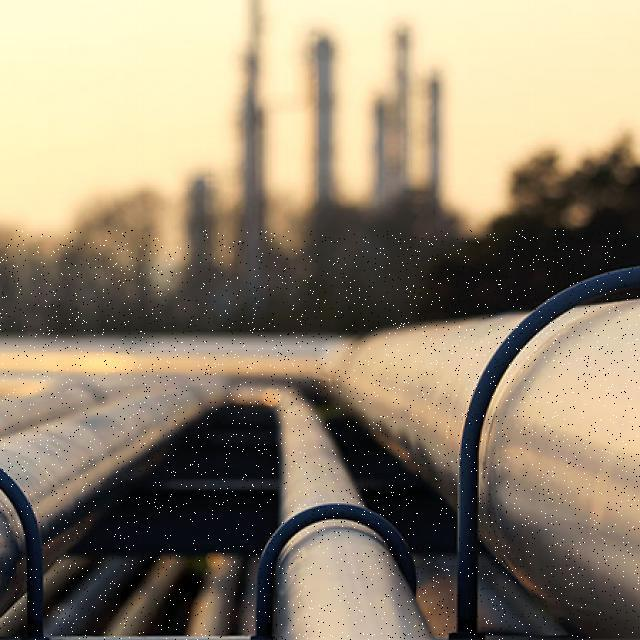gas: (0, 315, 522, 556), (479, 300, 640, 638), (238, 314, 522, 504), (480, 300, 640, 635), (275, 520, 430, 640), (278, 521, 421, 640), (241, 389, 362, 521)
